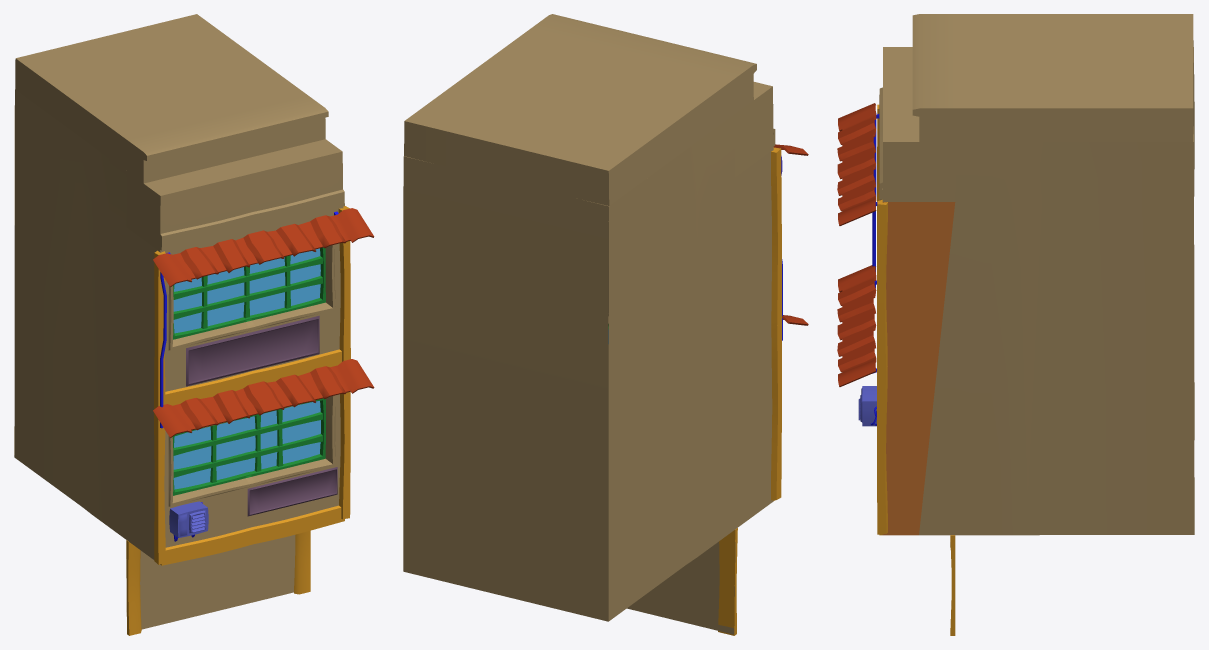
The model's file is Turret_Test_Jules.FBX.
The picture shows the model from 3 angles, left to right: view 1: azimuth 30°, elevation 25°; view 2: azimuth 150°, elevation 25°; view 3: azimuth 270°, elevation 25°; orthographic projection. The views are drawn at different scales.
Parts seen in each view (by area): view 1: HT_UV001; view 2: HT_UV001; view 3: HT_UV001.
Part boxes in pixels (<box>): HT_UV001: <box>14,14,374,635</box>; HT_UV001: <box>403,14,808,635</box>; HT_UV001: <box>837,14,1194,635</box>.
Bounding box in the file's own units: 685 × 1583 × 972.
